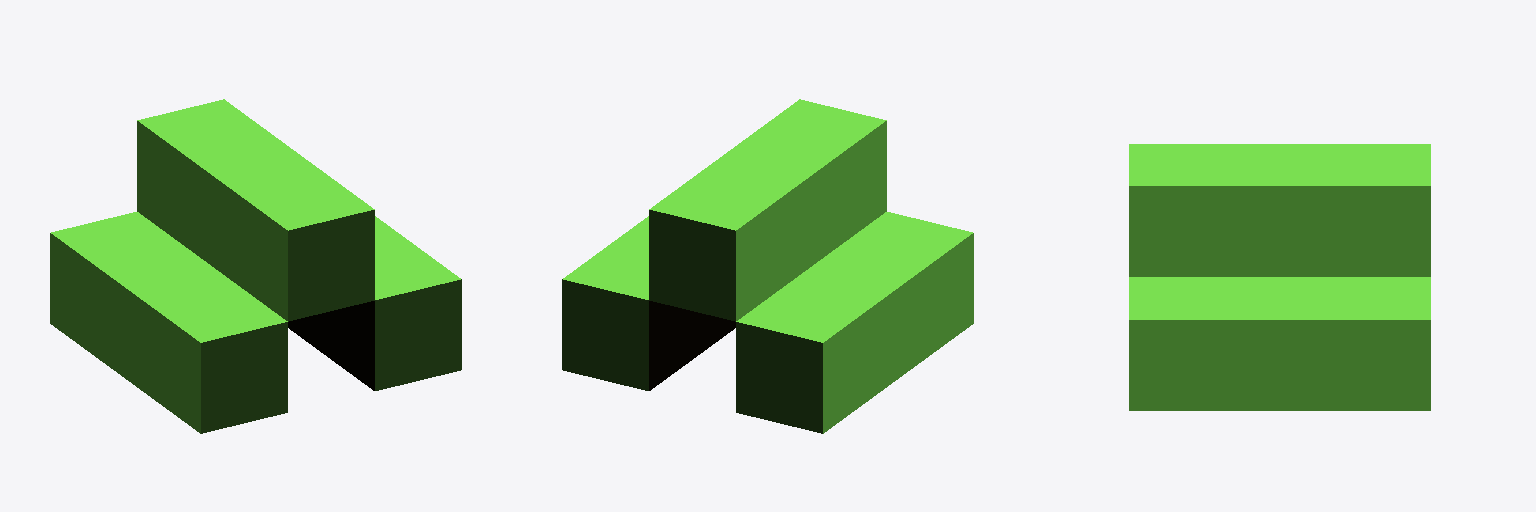
The model's file is tent_blend_10.obj.
3 renders of one model, left to right at view 1: azimuth 30°, elevation 25°; view 2: azimuth 150°, elevation 25°; view 3: azimuth 270°, elevation 25°, orthographic.
Visible parts, largest first — view 1: tent; view 2: tent; view 3: tent.
Boxes of the visible parts, <box> form: tent: <box>50,99,461,433</box>; tent: <box>562,99,973,433</box>; tent: <box>1129,144,1430,410</box>.
Size of the model in its own units: 1.5 by 1 by 1.5.